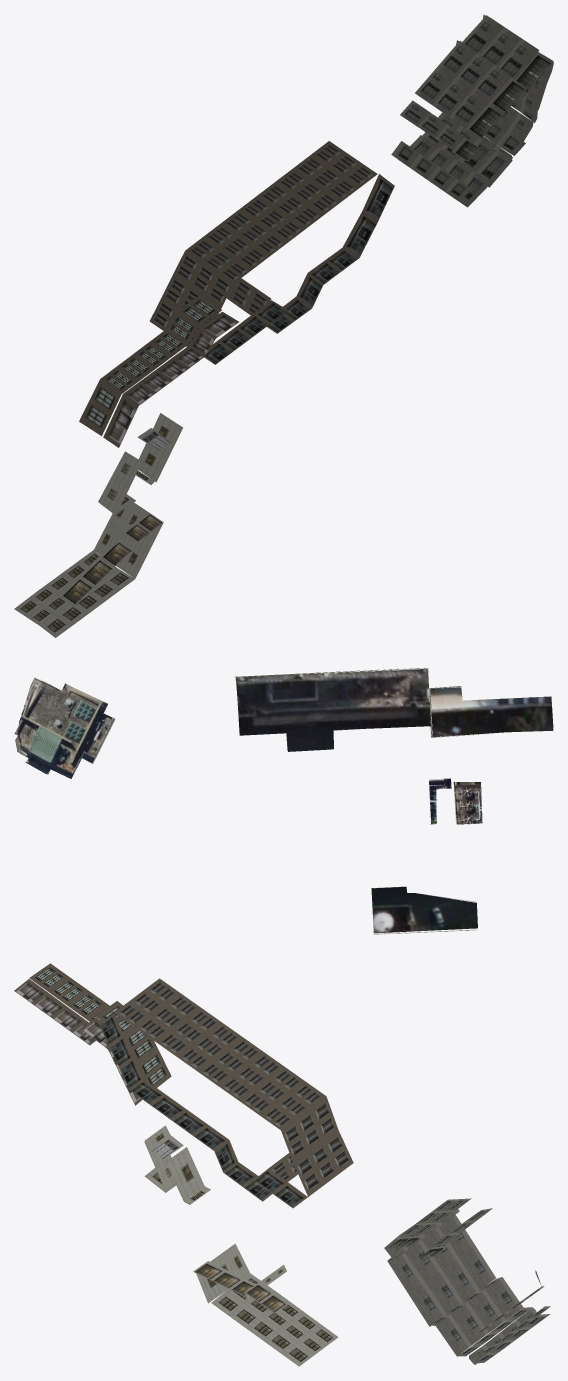
The model's file is tile_LOD4_r0_c0.glb.
The picture shows the model from 3 angles, top to bottom: view 1: azimuth 30°, elevation 25°; view 2: azimuth 150°, elevation 25°; view 3: azimuth 270°, elevation 25°; orthographic projection. The views are drawn at different scales.
Size of the model in its own units: 125 by 68.75 by 89.
Materials: 20 (20 with a texture image).
